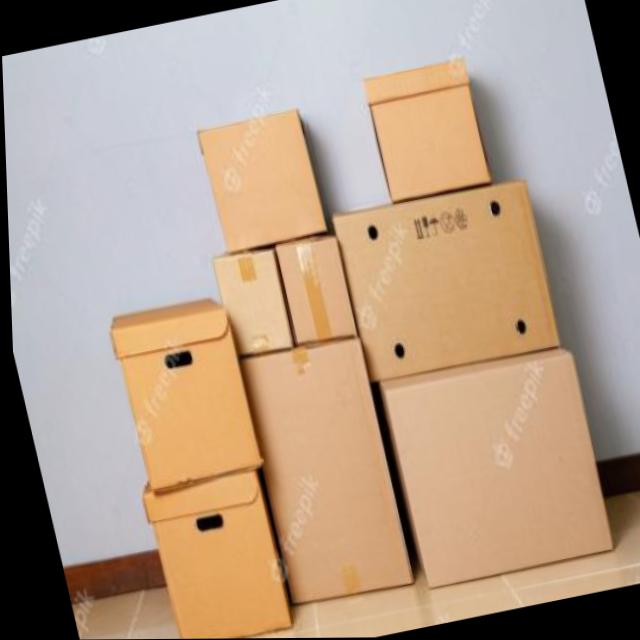box: (371, 338, 621, 603), (226, 322, 418, 628), (325, 176, 567, 390), (91, 283, 266, 500), (126, 460, 295, 639), (354, 45, 519, 222), (186, 83, 343, 263), (261, 219, 360, 364), (206, 238, 298, 371)
